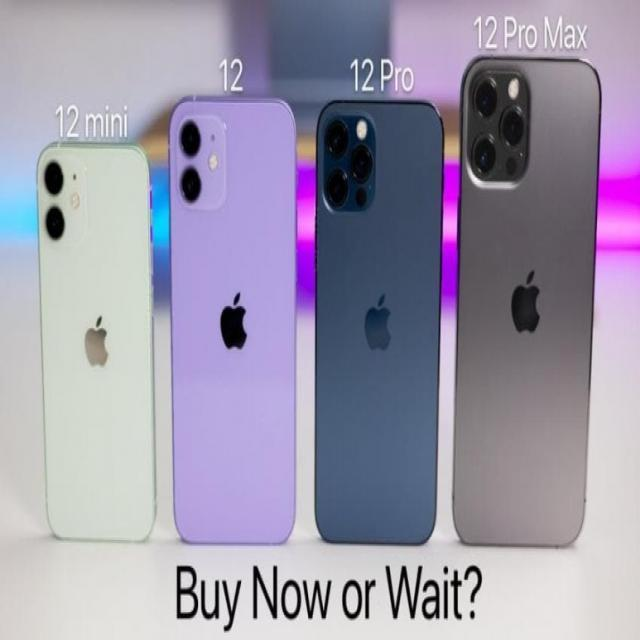phone: (451, 55, 602, 548), (168, 98, 298, 546), (316, 98, 440, 544), (39, 142, 158, 545)
